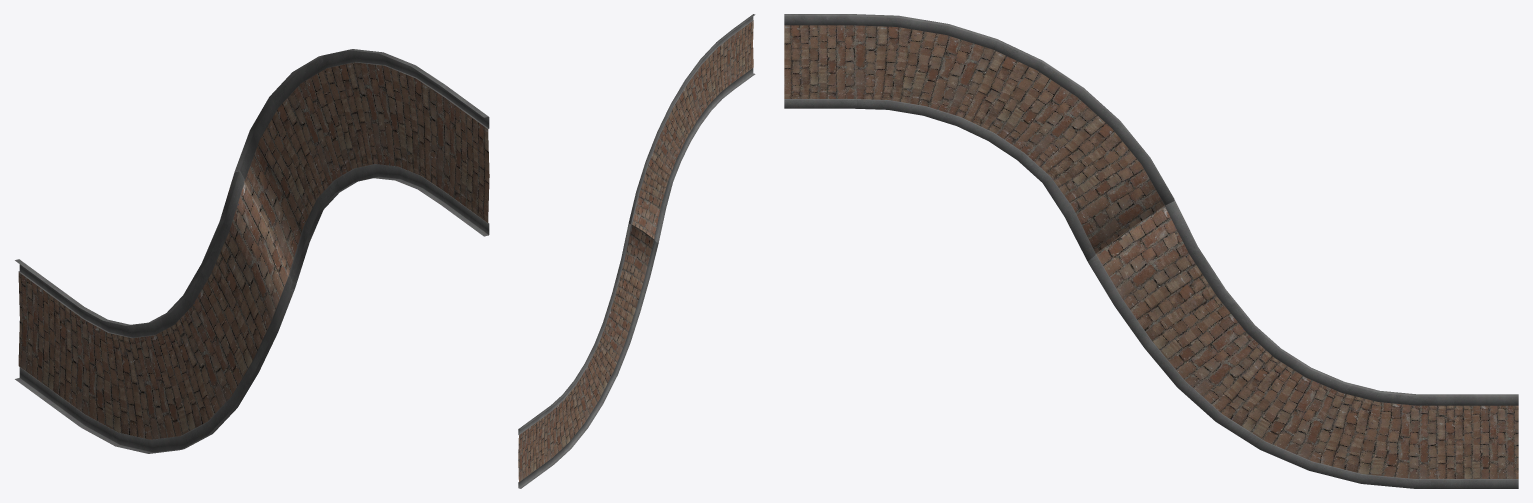
File: cP_Pathway01_sCurveReverse.dae
3 renders of one model, left to right at view 1: azimuth 30°, elevation 25°; view 2: azimuth 150°, elevation 25°; view 3: azimuth 270°, elevation 25°, orthographic. The views are drawn at different scales.
Visible parts, largest first — view 1: cP_Pathway01_sCurveReverse.001; view 2: cP_Pathway01_sCurveReverse.001; view 3: cP_Pathway01_sCurveReverse.001.
Boxes of the visible parts, x1,y1,x2,y2 form: cP_Pathway01_sCurveReverse.001: [15, 49, 489, 453]; cP_Pathway01_sCurveReverse.001: [518, 14, 755, 488]; cP_Pathway01_sCurveReverse.001: [784, 14, 1518, 488].
Bounding box in the file's own units: 0.0939 × 14 × 9.95.
